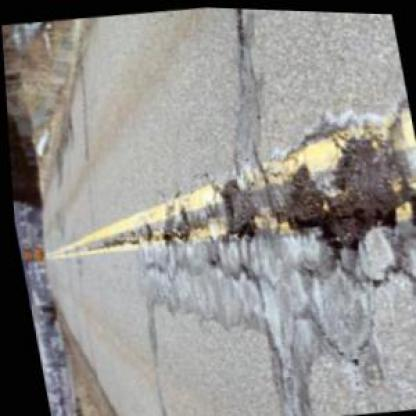pothole: (268, 129, 414, 261), (211, 172, 258, 240)
